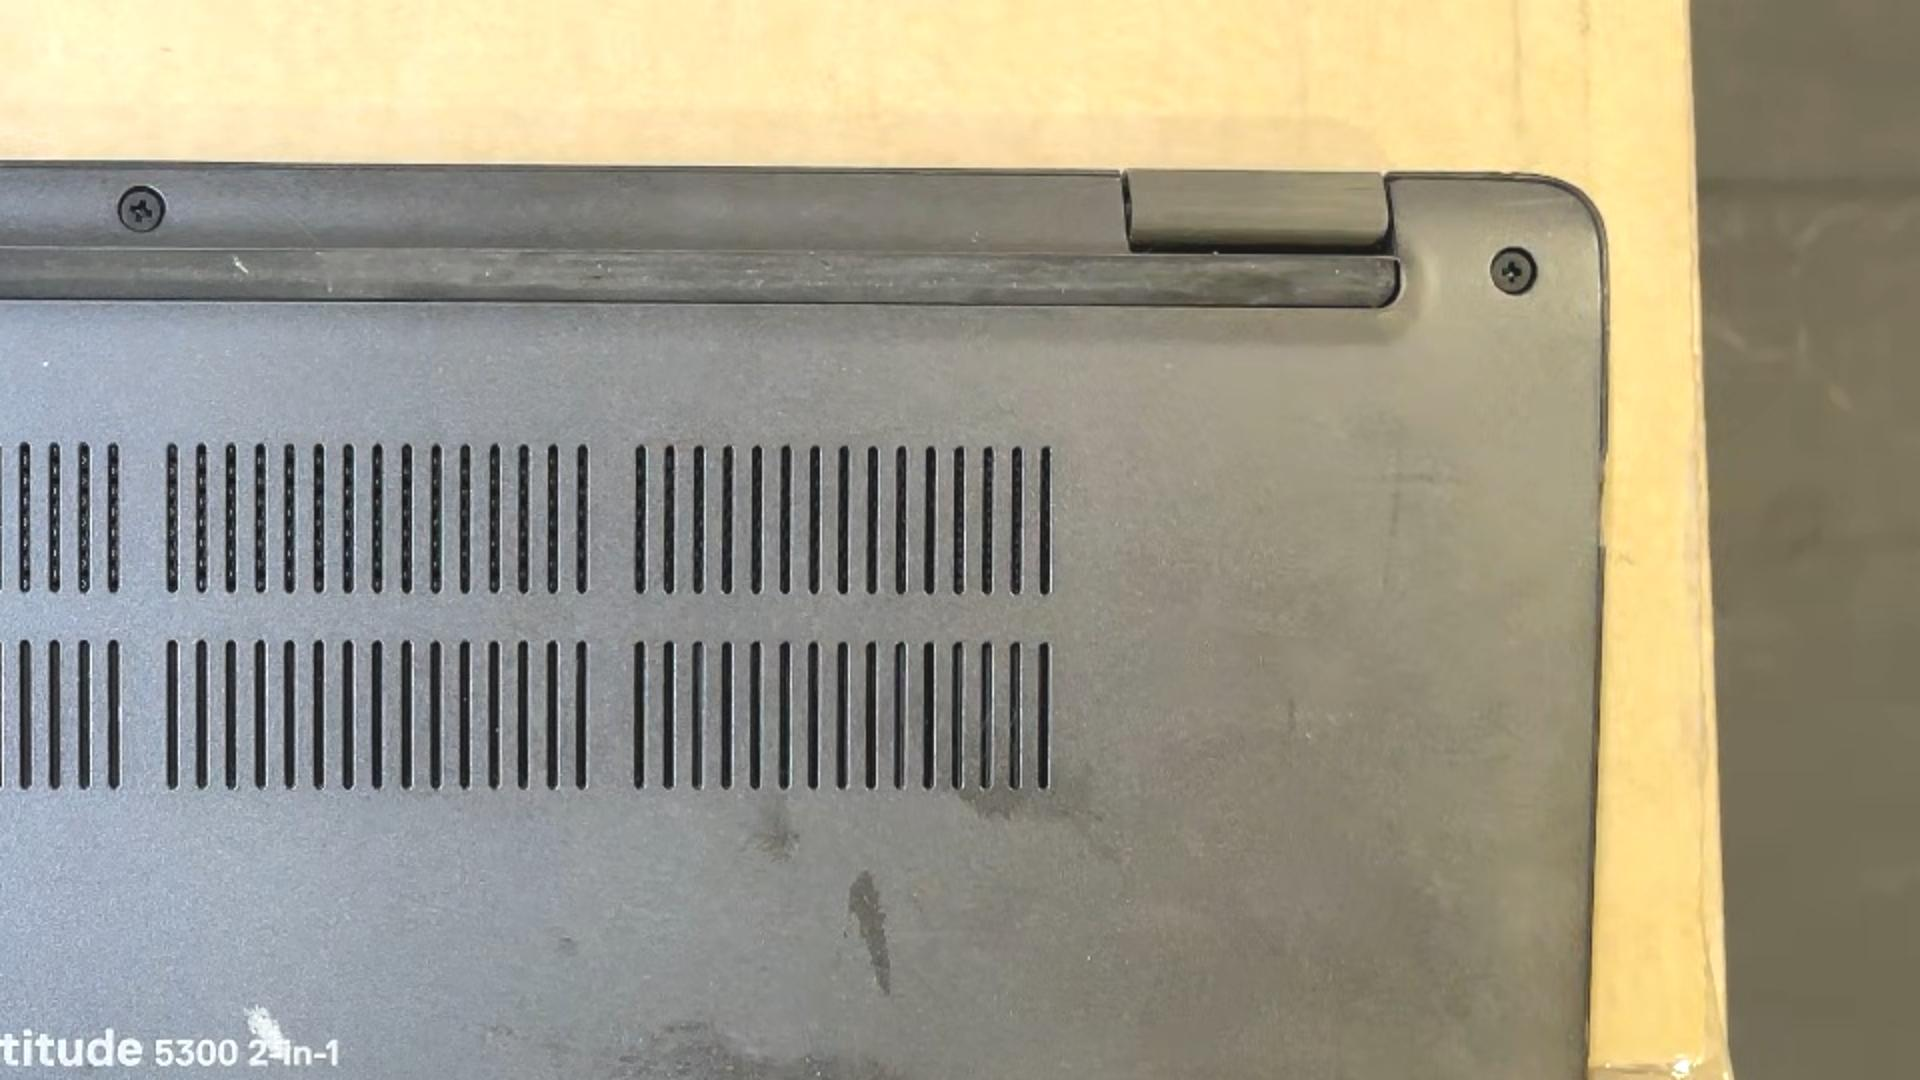chip: (243, 1002, 298, 1062), (41, 359, 51, 369)
scratches: (1383, 444, 1404, 585), (1358, 471, 1444, 485), (1497, 195, 1575, 210), (229, 253, 251, 276), (1287, 691, 1298, 733)
